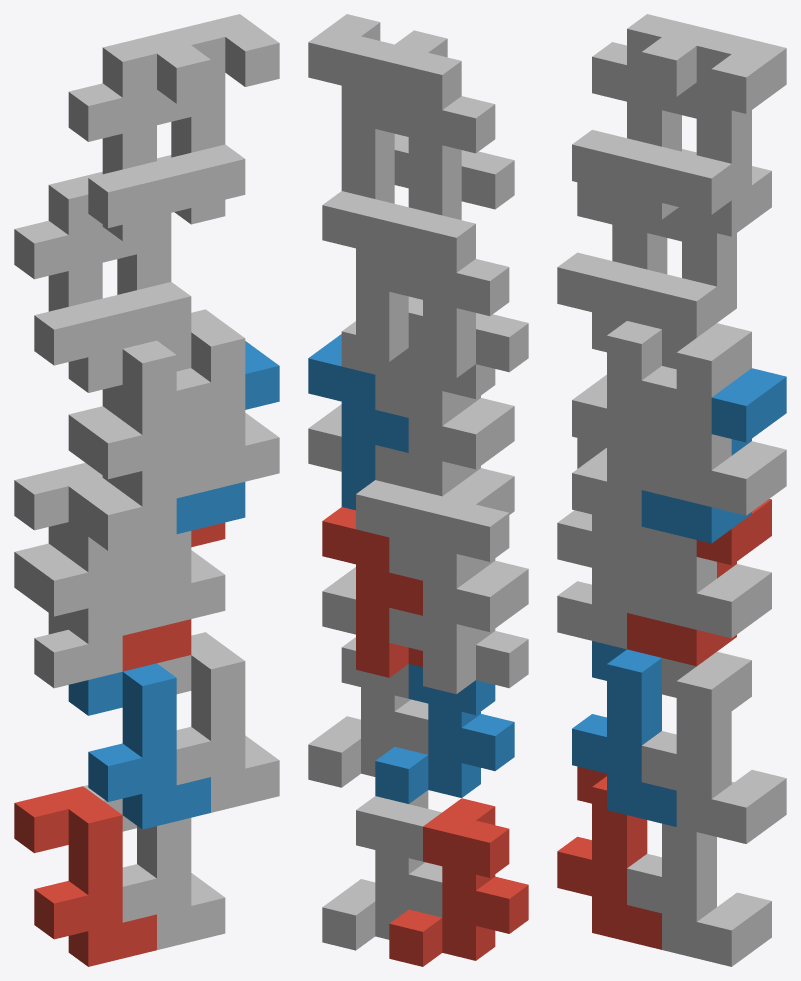
Rendered from tiling.obj.
3 renders of one model, left to right at view 1: azimuth 30°, elevation 25°; view 2: azimuth 150°, elevation 25°; view 3: azimuth 330°, elevation 25°, orthographic. The views are drawn at different scales.
Parts seen in each view (by area): view 1: copy_2_domain_4, copy_1_domain_1, copy_2_domain_3, copy_1_domain_2, copy_1_domain_4, copy_1_domain_3, copy_2_domain_8, copy_1_domain_6, copy_1_domain_8, copy_1_domain_5, copy_2_domain_7, copy_2_domain_2 (+4 smaller); view 2: copy_2_domain_4, copy_2_domain_3, copy_1_domain_1, copy_2_domain_1, copy_2_domain_8, copy_1_domain_5, copy_1_domain_2, copy_2_domain_7, copy_2_domain_2, copy_1_domain_6, copy_2_domain_5, copy_1_domain_3 (+4 smaller); view 3: copy_1_domain_6, copy_2_domain_8, copy_1_domain_8, copy_2_domain_4, copy_1_domain_5, copy_2_domain_7, copy_1_domain_2, copy_1_domain_4, copy_1_domain_1, copy_1_domain_7, copy_2_domain_3, copy_2_domain_6 (+4 smaller).
Part boxes in pixels (bbox=[...]): copy_2_domain_4: bbox=[68, 30, 210, 227]; copy_1_domain_1: bbox=[14, 786, 156, 966]; copy_2_domain_3: bbox=[14, 171, 156, 365]; copy_1_domain_2: bbox=[68, 663, 210, 829]; copy_1_domain_4: bbox=[68, 340, 210, 506]; copy_1_domain_3: bbox=[14, 463, 156, 643]; copy_2_domain_8: bbox=[157, 14, 279, 211]; copy_1_domain_6: bbox=[157, 632, 279, 812]; copy_1_domain_8: bbox=[157, 309, 279, 489]; copy_1_domain_5: bbox=[83, 785, 225, 949]; copy_2_domain_7: bbox=[102, 155, 225, 348]; copy_2_domain_2: bbox=[68, 368, 210, 550]; copy_2_domain_4: bbox=[375, 30, 514, 215]; copy_2_domain_3: bbox=[389, 201, 528, 378]; copy_1_domain_1: bbox=[389, 798, 528, 966]; copy_2_domain_1: bbox=[389, 537, 528, 694]; copy_2_domain_8: bbox=[308, 14, 408, 198]; copy_1_domain_5: bbox=[322, 790, 442, 950]; copy_1_domain_2: bbox=[375, 664, 514, 803]; copy_2_domain_7: bbox=[322, 185, 422, 361]; copy_2_domain_2: bbox=[375, 375, 514, 514]; copy_1_domain_6: bbox=[308, 637, 428, 787]; copy_2_domain_5: bbox=[322, 507, 422, 677]; copy_1_domain_3: bbox=[389, 482, 528, 650]; copy_1_domain_6: bbox=[641, 651, 786, 843]; copy_2_domain_8: bbox=[641, 31, 786, 214]; copy_1_domain_8: bbox=[641, 323, 786, 515]; copy_2_domain_4: bbox=[572, 14, 716, 197]; copy_1_domain_5: bbox=[627, 782, 771, 966]; copy_2_domain_7: bbox=[627, 166, 771, 337]; copy_1_domain_2: bbox=[572, 641, 676, 826]; copy_1_domain_4: bbox=[572, 312, 676, 498]; copy_1_domain_1: bbox=[557, 766, 661, 949]; copy_1_domain_7: bbox=[627, 531, 771, 638]; copy_2_domain_3: bbox=[557, 149, 696, 320]; copy_2_domain_6: bbox=[641, 368, 786, 543].
Size of the model in its own units: 6 by 25 by 3.
